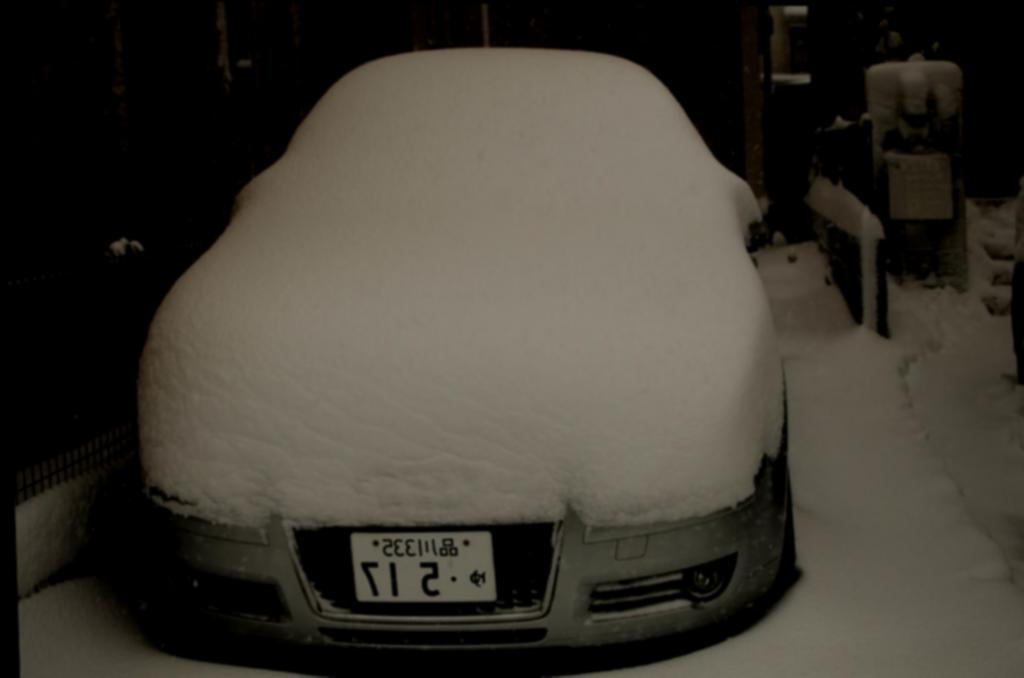License_Plate: (351, 529, 500, 605)
